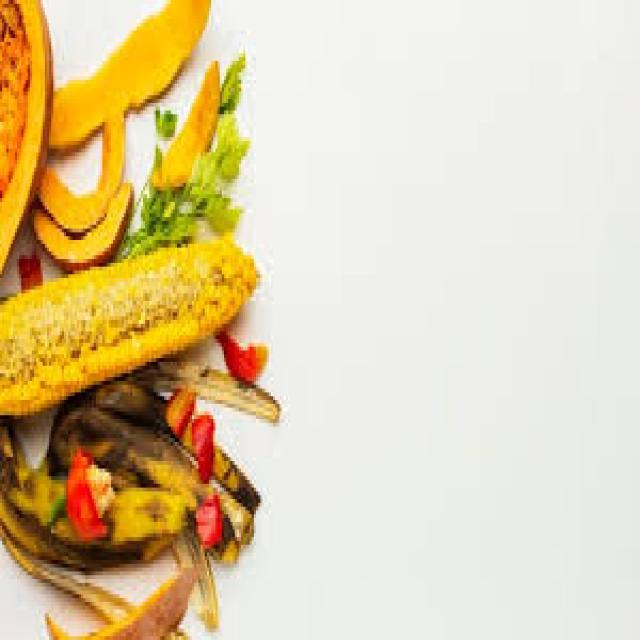biodegradable: (43, 358, 277, 568), (0, 415, 211, 636), (0, 229, 258, 408), (47, 0, 209, 137), (0, 0, 51, 278), (32, 103, 126, 236), (47, 564, 194, 636), (30, 179, 130, 271), (154, 61, 220, 190), (47, 446, 117, 545), (120, 175, 197, 244), (169, 518, 218, 621), (188, 172, 241, 229), (214, 324, 263, 385), (209, 111, 245, 176), (160, 385, 196, 434), (190, 408, 213, 484), (216, 46, 241, 107), (194, 491, 222, 541), (15, 244, 40, 282), (154, 103, 173, 126), (196, 160, 211, 187)
